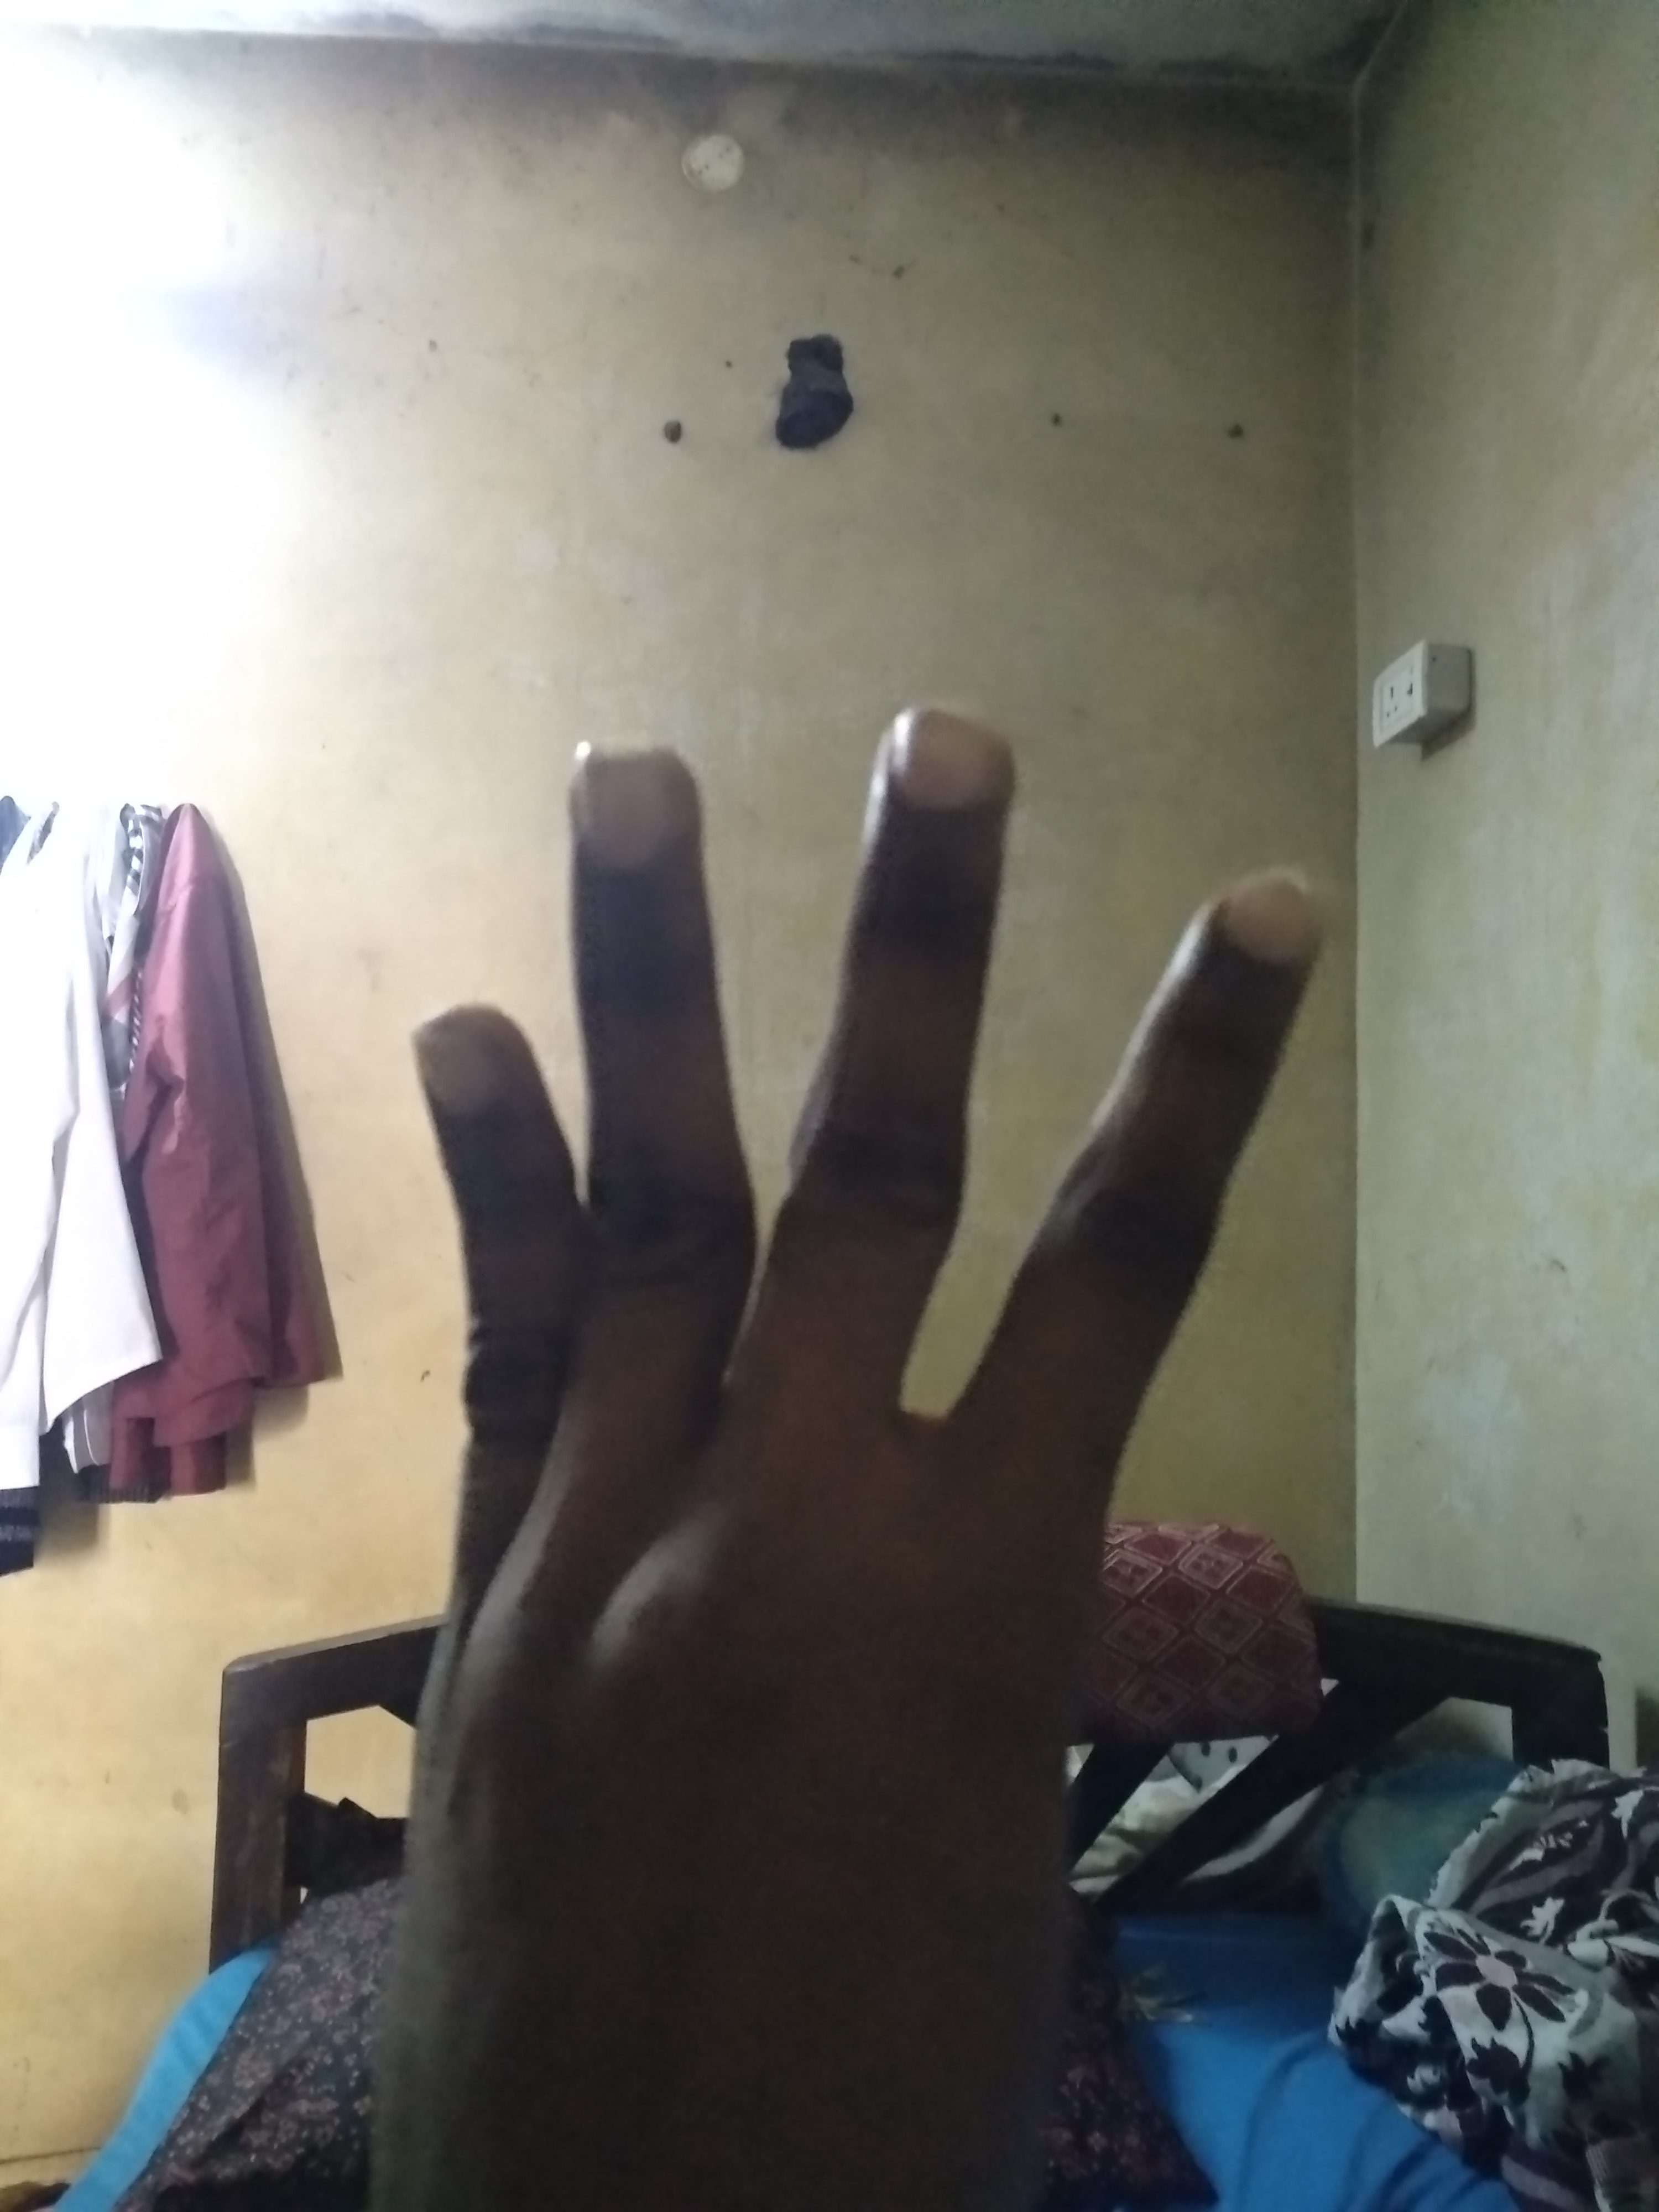four: (359, 707, 993, 918)
